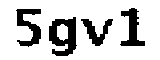1: (114, 7, 150, 50)
5: (11, 5, 44, 49)
g: (44, 14, 81, 60)
v: (81, 13, 116, 51)
